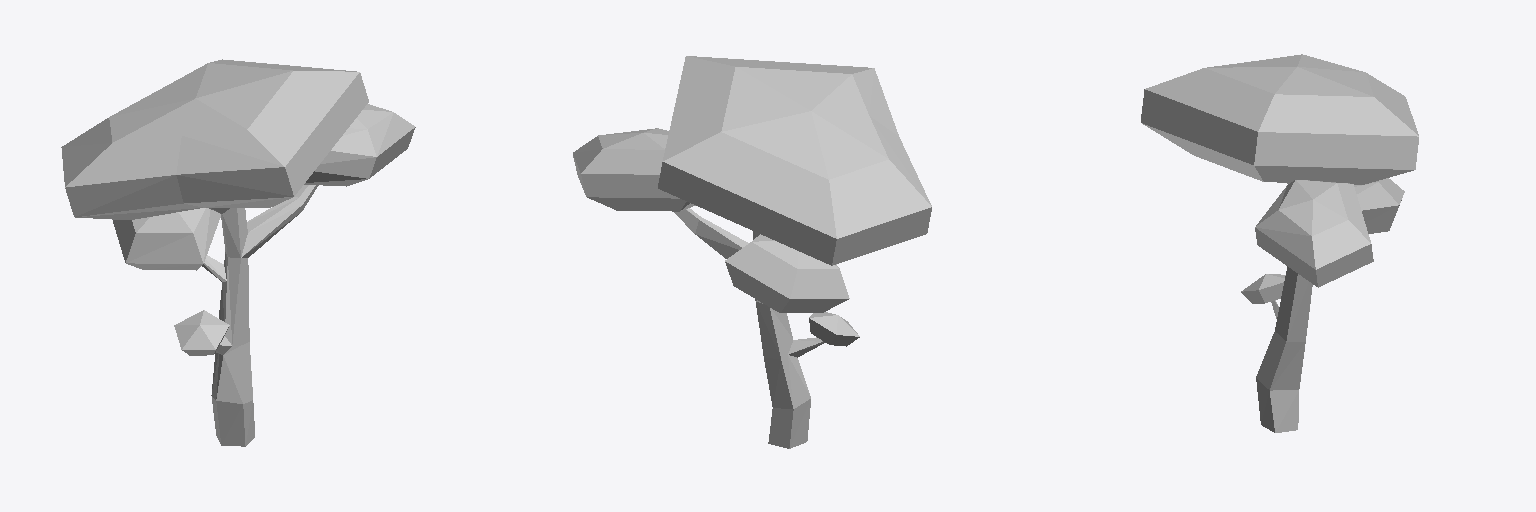
Rendered from Tree1.obj.
3 renders of one model, left to right at view 1: azimuth 30°, elevation 25°; view 2: azimuth 150°, elevation 25°; view 3: azimuth 270°, elevation 25°, orthographic.
Size of the model in its own units: 3.32 by 3.19 by 2.26.